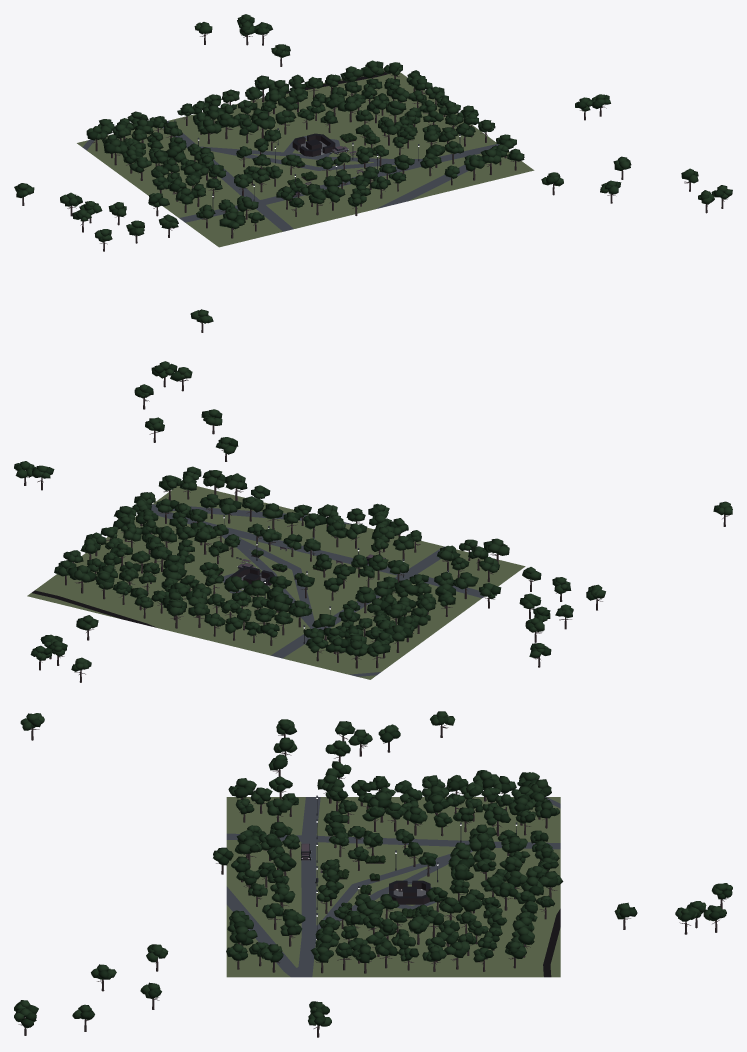
Rendered from level.glb.
The picture shows the model from 3 angles, top to bottom: view 1: azimuth 30°, elevation 25°; view 2: azimuth 150°, elevation 25°; view 3: azimuth 270°, elevation 25°; orthographic projection. The views are drawn at different scales.
Parts seen in each view (by area): view 1: far_canopies, static, canopies; view 2: far_canopies, static, canopies; view 3: far_canopies, static, canopies.
Part boxes in pixels (bbox=[...]): far_canopies: bbox=[14, 14, 732, 323]; static: bbox=[22, 33, 727, 332]; canopies: bbox=[236, 96, 388, 192]; far_canopies: bbox=[14, 361, 732, 671]; static: bbox=[24, 377, 729, 682]; canopies: bbox=[163, 523, 388, 599]; far_canopies: bbox=[14, 711, 732, 1028]; static: bbox=[18, 725, 728, 1037]; canopies: bbox=[282, 821, 473, 913].
Bounding box in the file's own units: 158 × 7.42 × 155.
